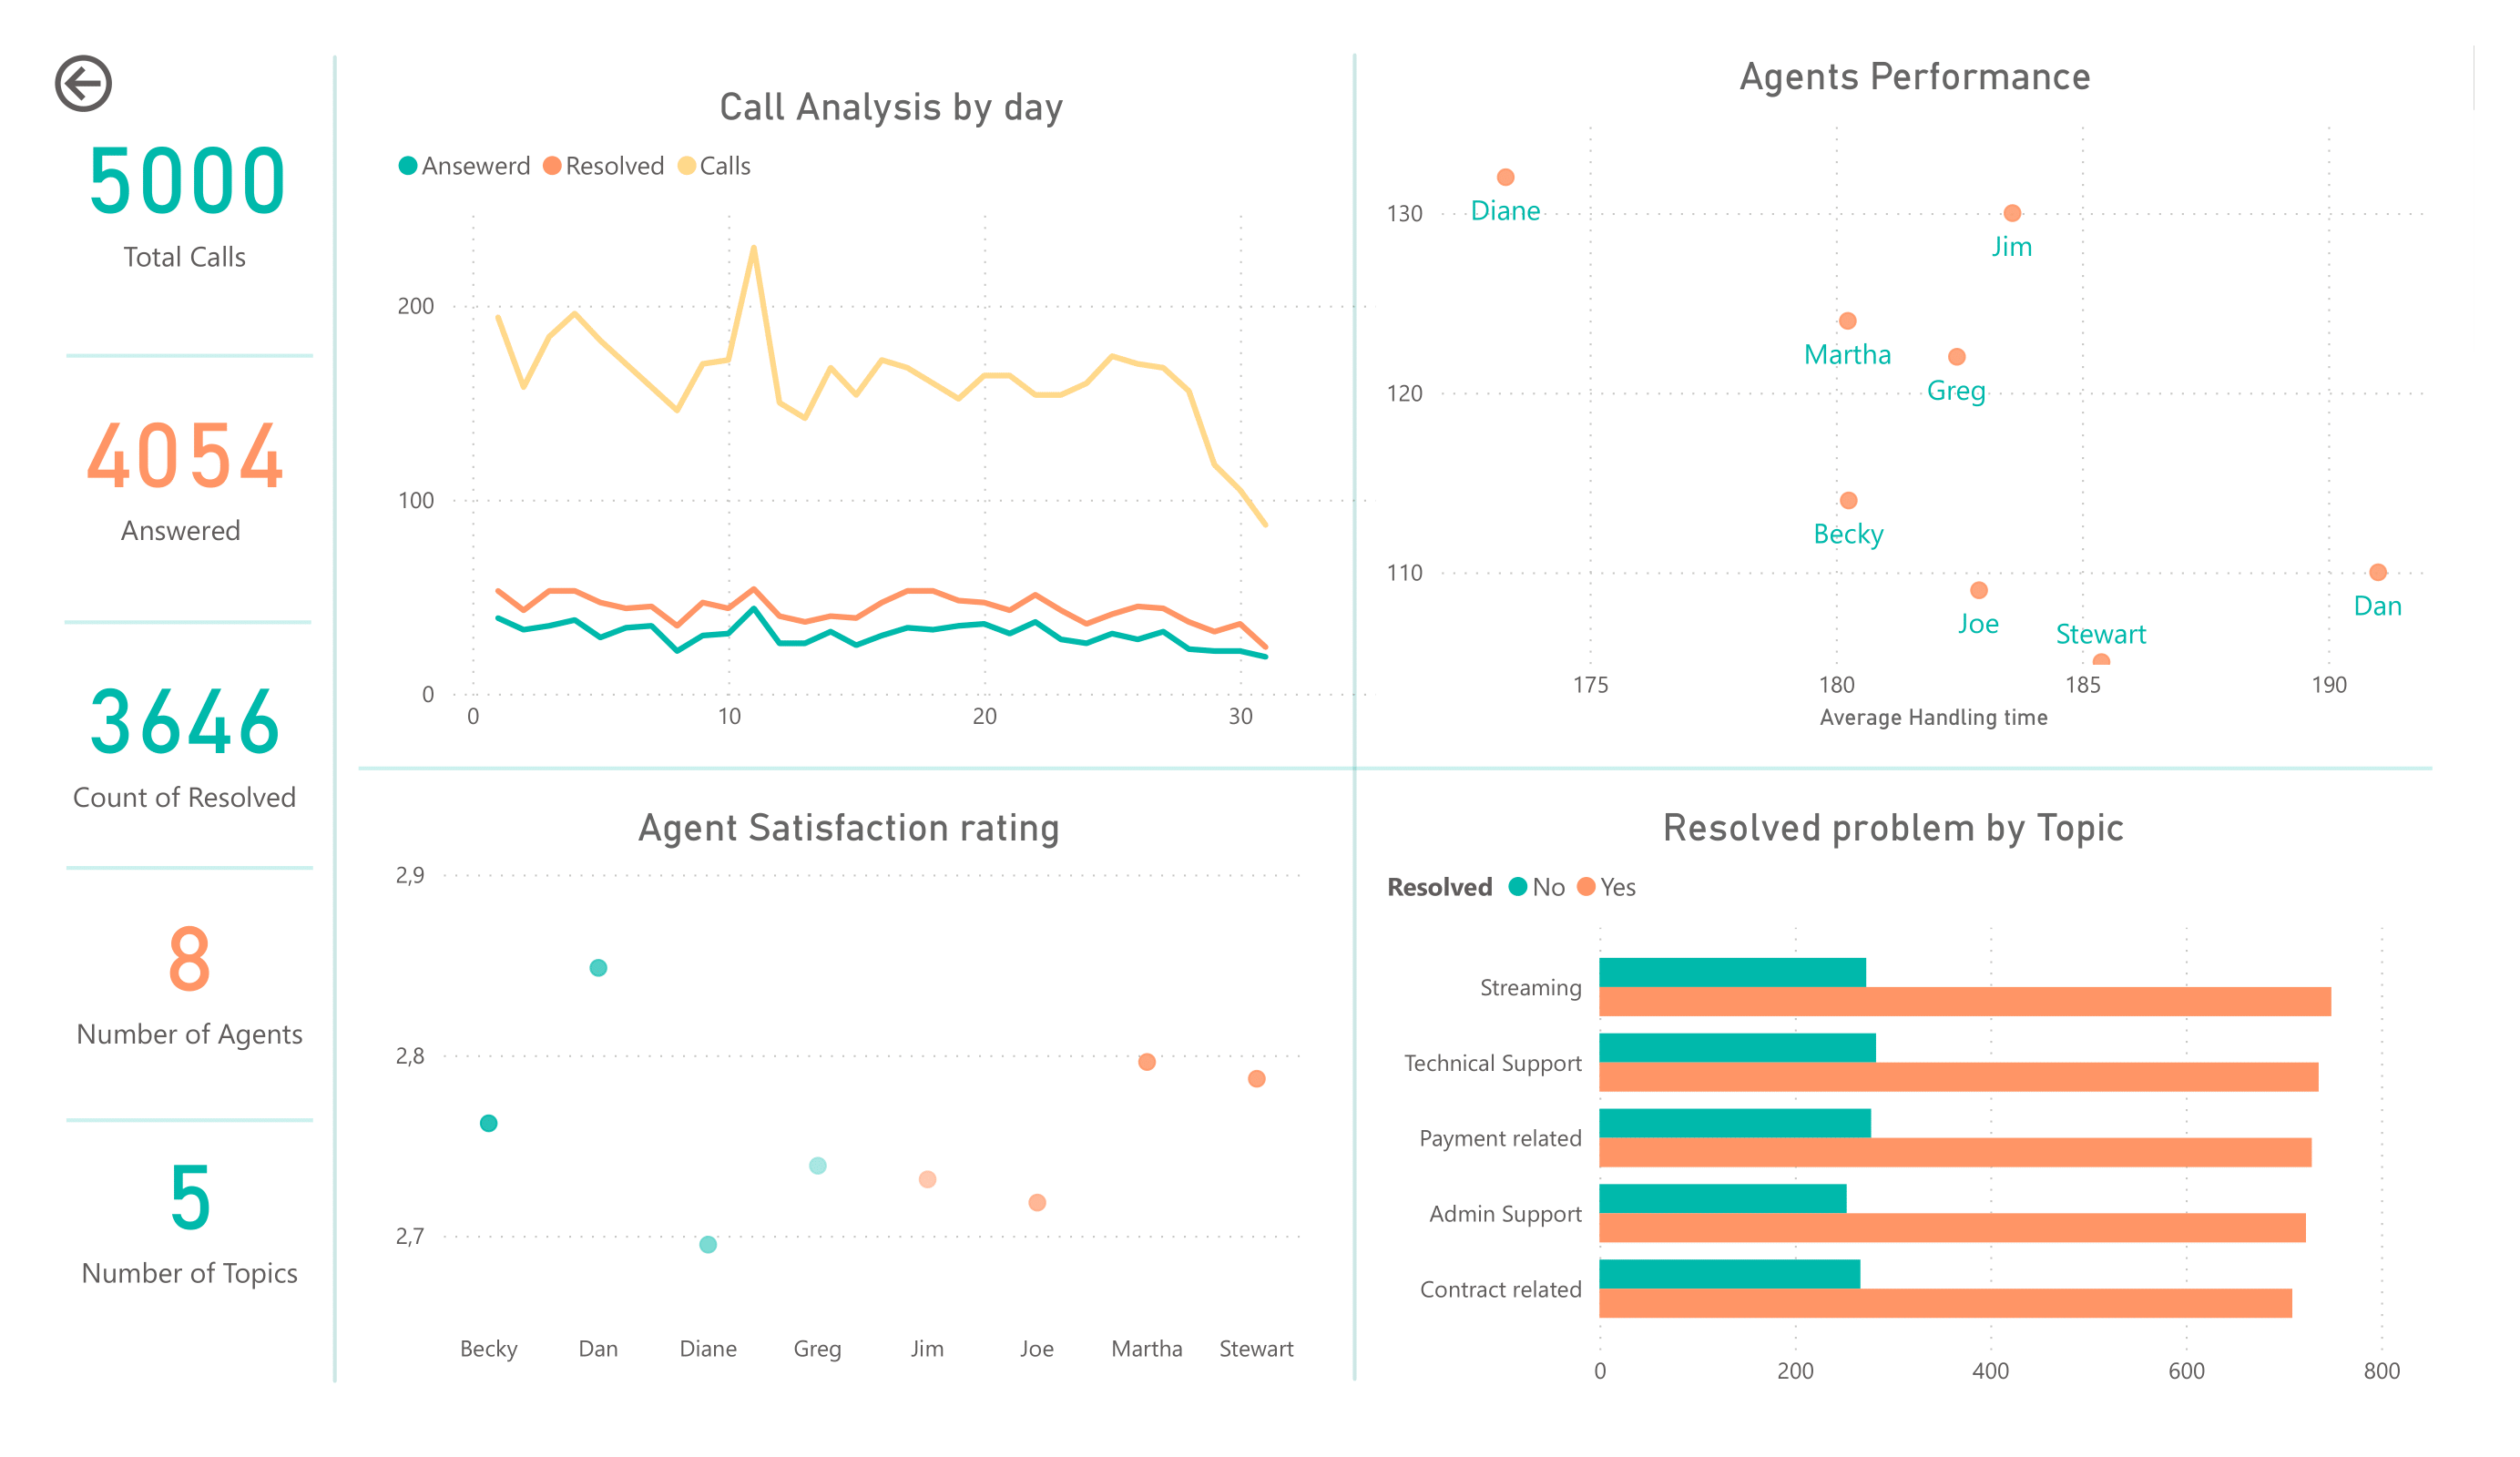

The dashboard page shown, as its layout file describes it:
{"tool":"powerbi","page":{"name":"Page 2","canvas":[1280,720],"ordinal":1},"visuals":[{"type":"card","fields":{"Values":["CountNonNull(Sheet1 (2).Call Id)"]},"box":[0,19.4,152.2,111.9],"z":0},{"type":"card","fields":{"Values":["CountNonNull(Sheet1 (2).Answered (Y/N))"]},"box":[0,164.2,152.2,111.9],"z":1000},{"type":"card","fields":{"Values":["CountNonNull(Sheet1 (2).Resolved)"]},"box":[0,304.8,152.4,111.1],"z":2000},{"type":"card","fields":{"Values":["Count(Sheet1 (2).Agent)"]},"box":[0,433.3,152.4,104.8],"z":3000},{"type":"card","fields":{"Values":["Count(Sheet1 (2).Topic)"]},"box":[0,552.4,152.4,119],"z":4000},{"type":"actionButton","box":[0,0,100,40],"z":5000},{"type":"lineChart","title":"Call Analysis by day","fields":{"Y":["Sheet.ansewerddd","Sheet.resolveddd","CountNonNull(Sheet.Call Id)"],"Category":["Sheet.Date.Variation.Date Hierarchy.Day"]},"box":[180,20,531.7,351.7],"z":6000},{"type":"scatterChart","title":"Agent Satisfaction rating","fields":{"X":["Sheet.Agent"],"Y":["Avg(Sheet.Satisfaction rating)"]},"box":[179.4,400,488.9,304.8],"z":7000},{"type":"clusteredBarChart","title":"Resolved problem  by Topic ","fields":{"Category":["Sheet1 (2).Topic"],"Series":["Sheet1 (2).Resolved"],"Y":["CountNonNull(Sheet1 (2).Call Id)"]},"box":[701.6,400,544.4,317.5],"z":8000},{"type":"scatterChart","title":"Agents Performance","fields":{"Y":["Sheet.ansewerddd"],"X":["Sheet.Average Handling time"],"Category":["Sheet.Agent"]},"box":[701.5,4.5,568.7,367.2],"z":9000},{"type":"shape","box":[165,361.7,1093.3,38.3],"z":10000},{"type":"shape","box":[668,4,44,700],"z":11000},{"type":"shape","box":[130.2,4.8,44.4,700],"z":12000},{"type":"shape","box":[11.1,149.2,130.2,28.6],"z":13000},{"type":"shape","box":[11.1,552.4,130.2,28.6],"z":14000},{"type":"shape","box":[11.1,419,130.2,28.6],"z":15000},{"type":"shape","box":[10.4,292.5,129.9,22.4],"z":16000}]}

Visuals, with their boxes on the page's 1280x720 design canvas (x1, y1, x2, y2). These are canvas units, not pixel positions in the 2520x1457 screenshot, which may show the page scaled, cropped or inside an application window:
card - CountNonNull(Sheet1 (2).Call Id): [x1=0, y1=19, x2=152, y2=131]
card - CountNonNull(Sheet1 (2).Answered (Y/N)): [x1=0, y1=164, x2=152, y2=276]
card - CountNonNull(Sheet1 (2).Resolved): [x1=0, y1=305, x2=152, y2=416]
card - Count(Sheet1 (2).Agent): [x1=0, y1=433, x2=152, y2=538]
card - Count(Sheet1 (2).Topic): [x1=0, y1=552, x2=152, y2=671]
actionButton: [x1=0, y1=0, x2=100, y2=40]
"Call Analysis by day" lineChart: [x1=180, y1=20, x2=712, y2=372]
"Agent Satisfaction rating" scatterChart: [x1=179, y1=400, x2=668, y2=705]
"Resolved problem  by Topic " clusteredBarChart: [x1=702, y1=400, x2=1246, y2=718]
"Agents Performance" scatterChart: [x1=702, y1=4, x2=1270, y2=372]
shape: [x1=165, y1=362, x2=1258, y2=400]
shape: [x1=668, y1=4, x2=712, y2=704]
shape: [x1=130, y1=5, x2=175, y2=705]
shape: [x1=11, y1=149, x2=141, y2=178]
shape: [x1=11, y1=552, x2=141, y2=581]
shape: [x1=11, y1=419, x2=141, y2=448]
shape: [x1=10, y1=292, x2=140, y2=315]
